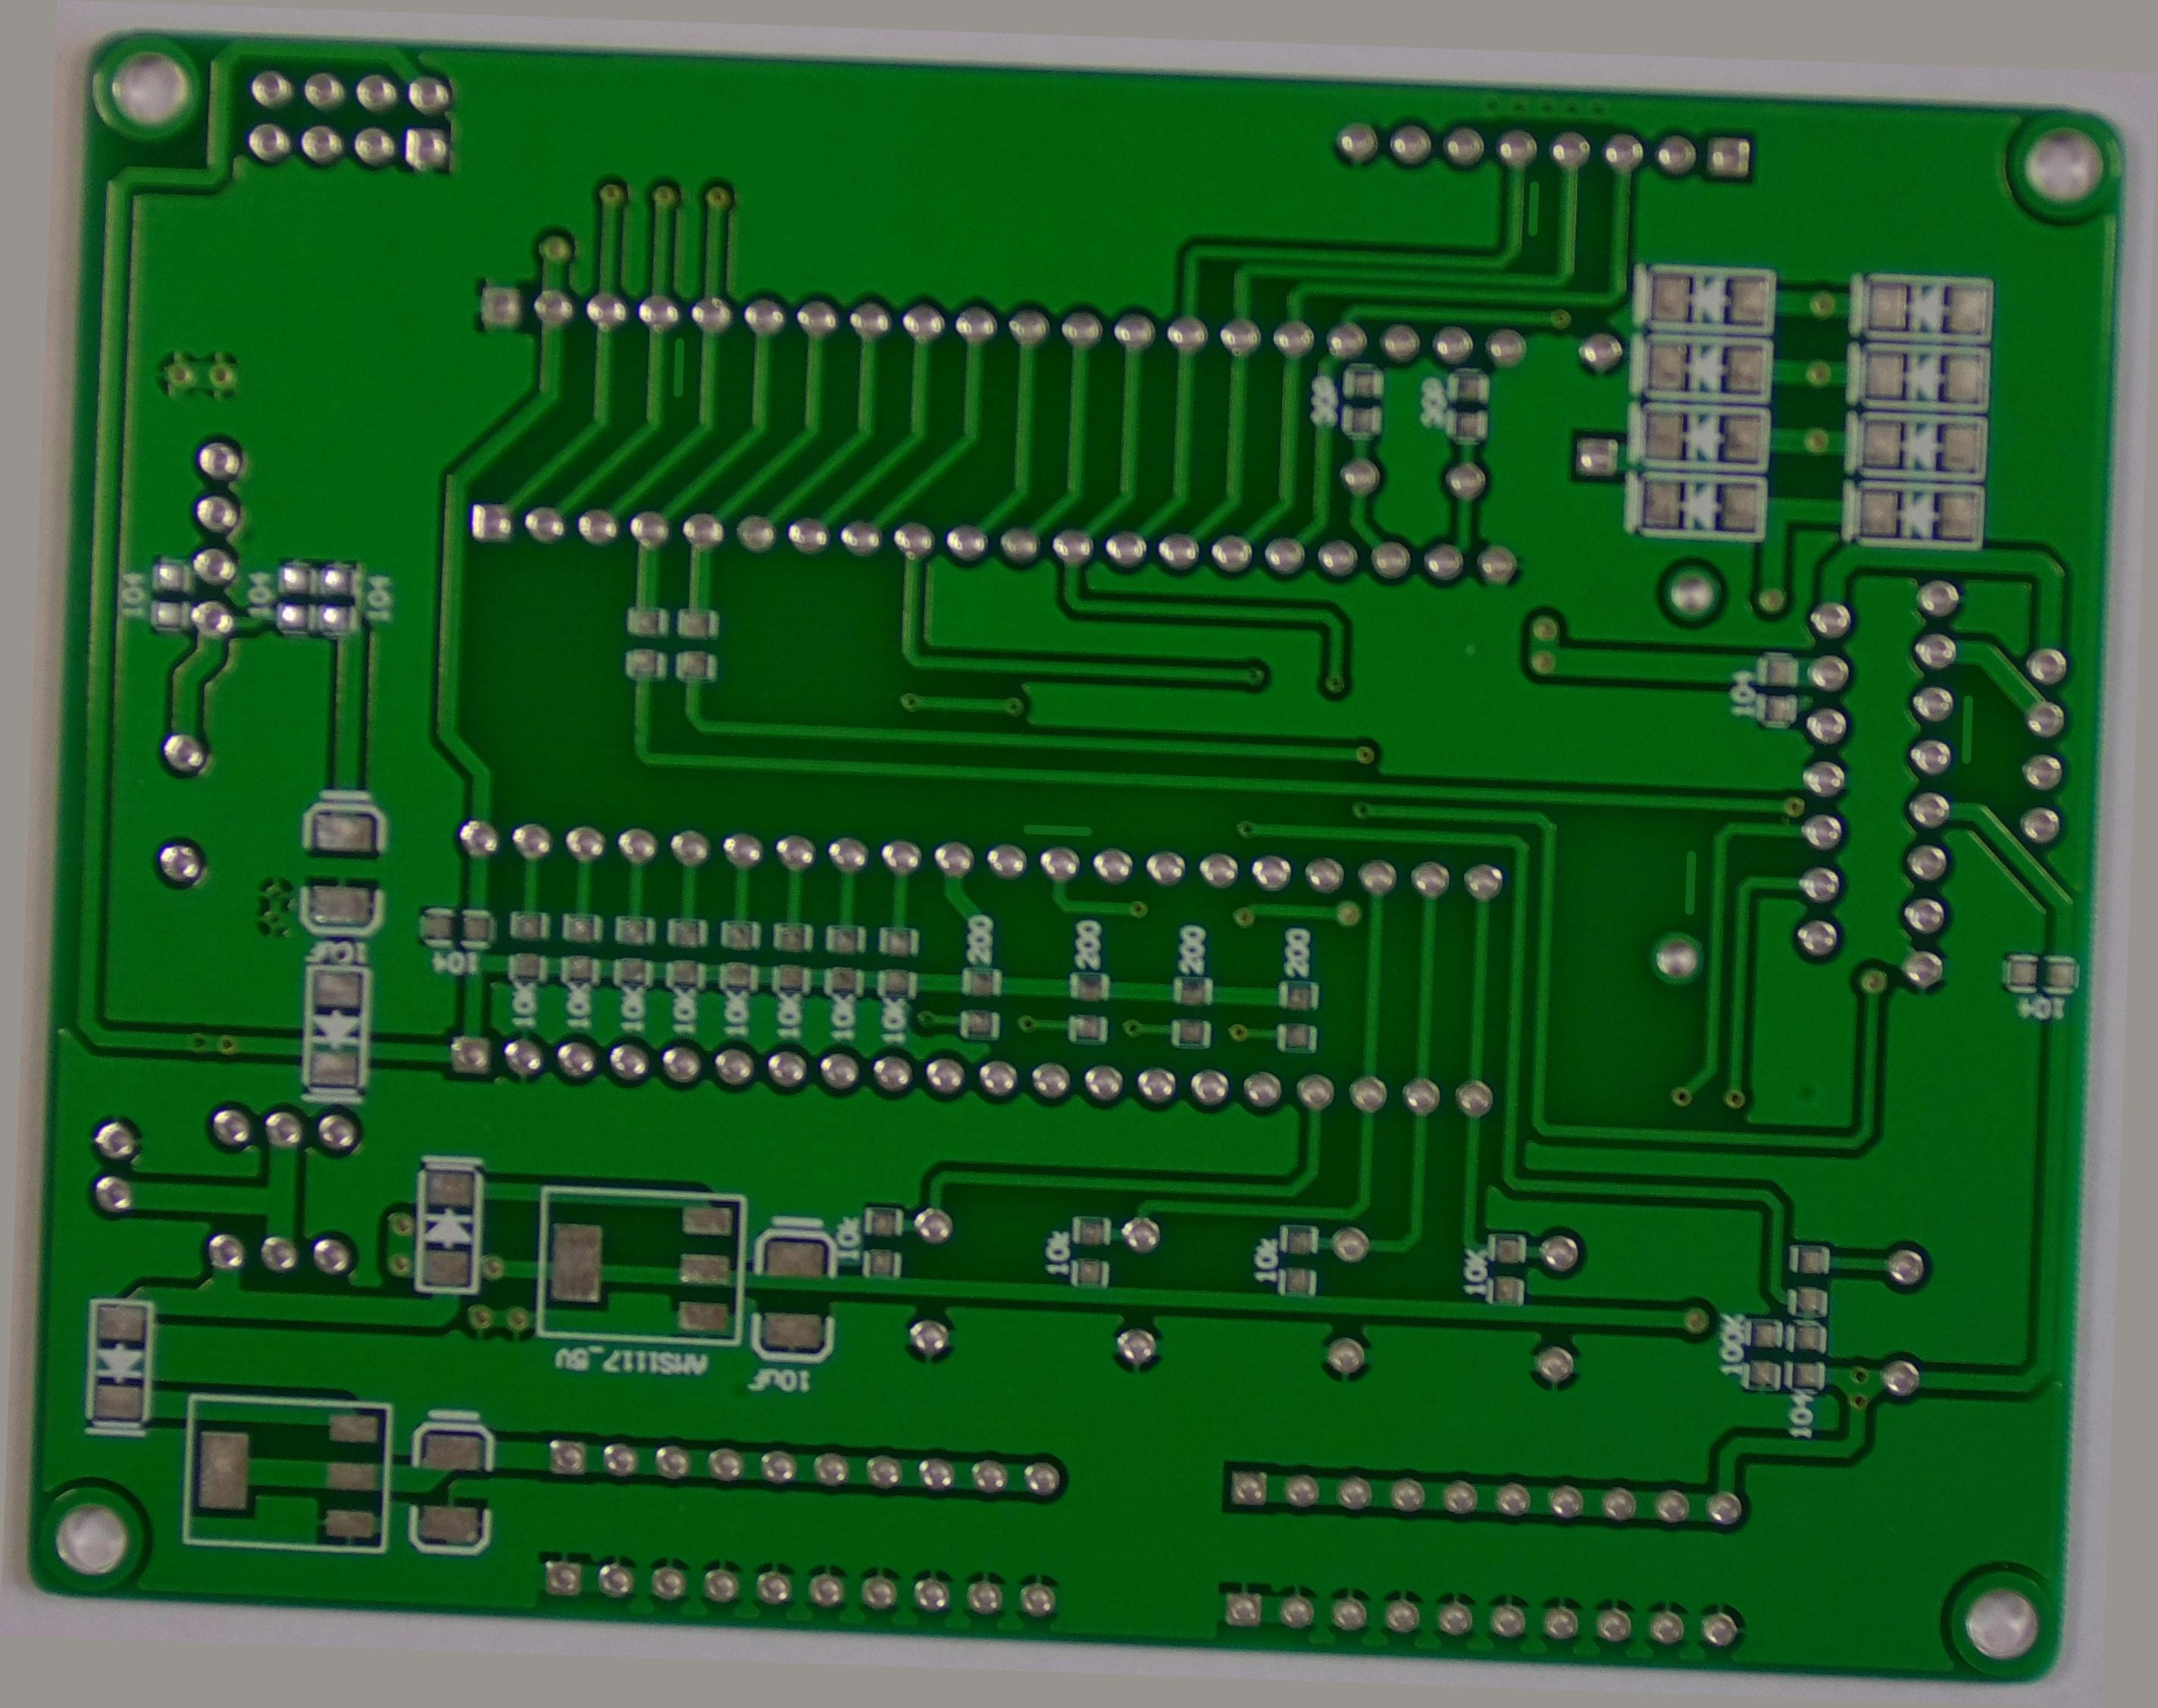spurious_copper: (1005, 808, 1102, 853), (1964, 645, 2011, 734), (1687, 818, 1727, 899), (627, 326, 673, 396), (1505, 126, 1538, 203)
